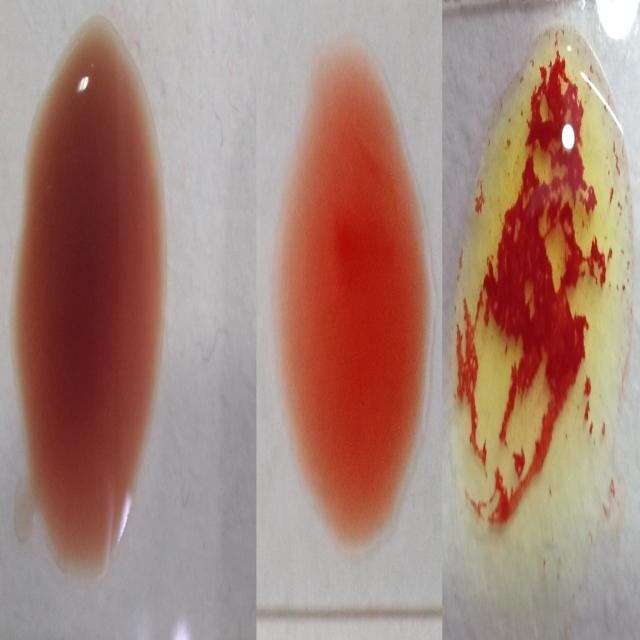B: (452, 15, 632, 576)
